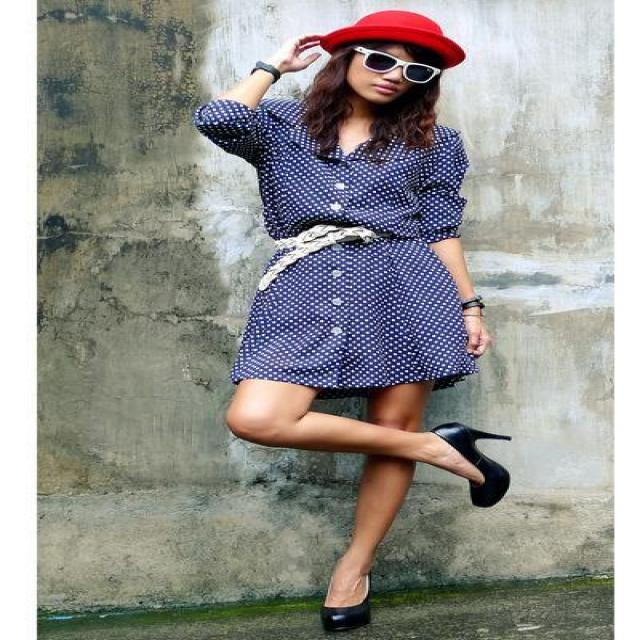dress: (197, 90, 483, 390)
hat: (301, 11, 464, 63)
shoe: (320, 422, 510, 638)
